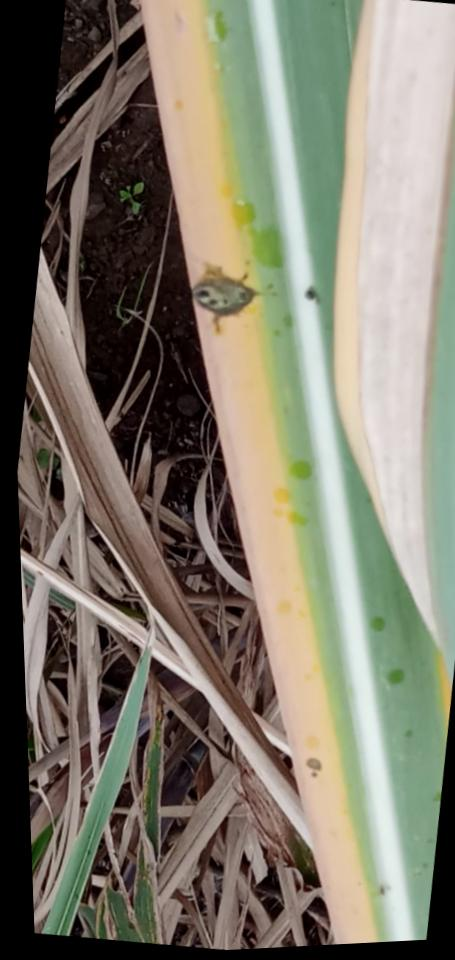Rust: (376, 881, 389, 897)
Yellow: (136, 0, 376, 944), (331, 0, 455, 638), (434, 642, 452, 733)
